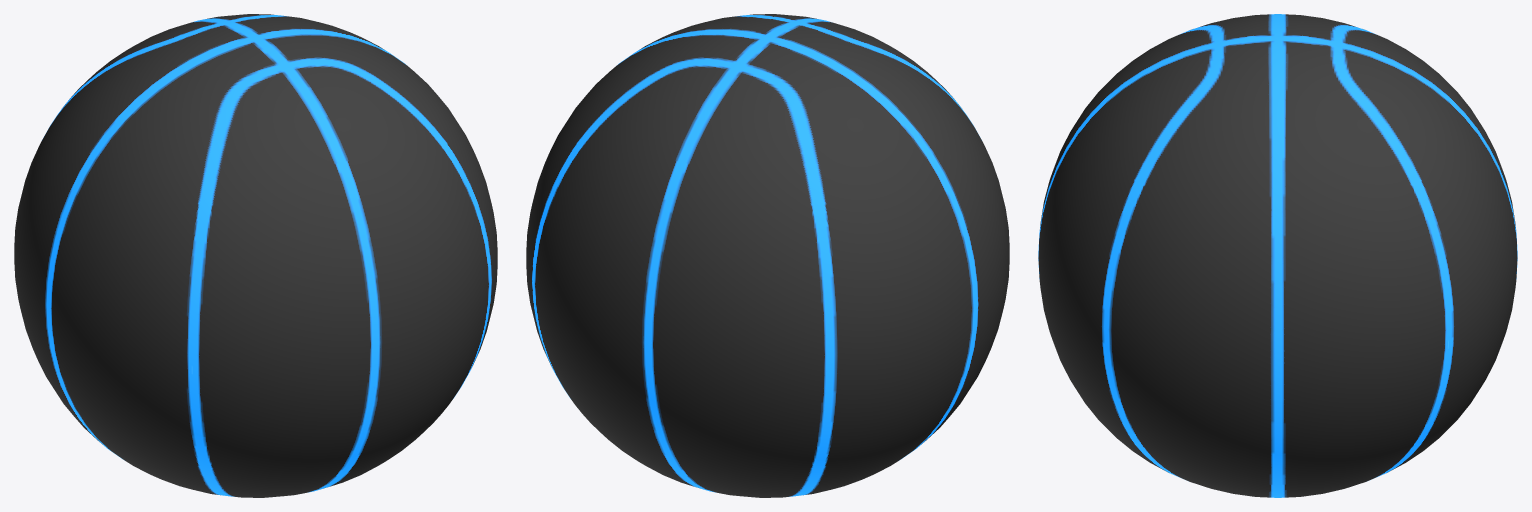
Rendered from Sci-Fi Basketball.fbx.
3 views of the same model, side by side, from view 1: azimuth 30°, elevation 25°; view 2: azimuth 150°, elevation 25°; view 3: azimuth 270°, elevation 25° (orthographic).
Visible parts, largest first — view 1: Sci-Fi Basketball; view 2: Sci-Fi Basketball; view 3: Sci-Fi Basketball.
Part boxes in pixels (<box>): Sci-Fi Basketball: <box>14,14,497,497</box>; Sci-Fi Basketball: <box>526,14,1009,497</box>; Sci-Fi Basketball: <box>1038,14,1517,497</box>.
Size of the model in its own units: 79.81 by 80.07 by 79.81.
